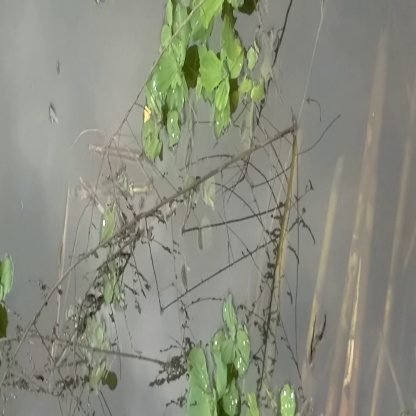branch: (333, 22, 401, 401)
